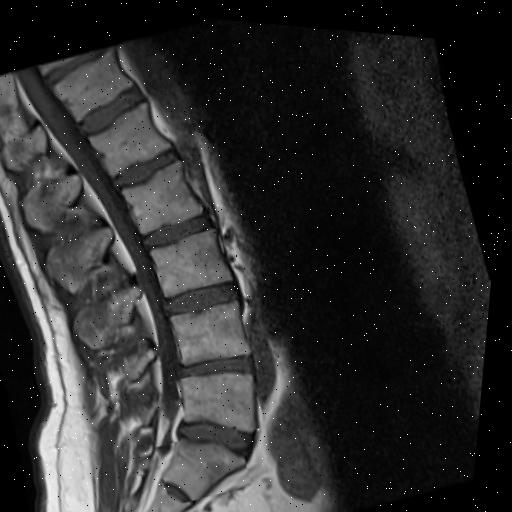L1: (92, 100, 174, 172)
L2: (127, 158, 206, 230)
L3: (157, 225, 236, 293)
L4: (178, 296, 257, 362)
L5: (188, 372, 263, 428)
S1: (171, 435, 253, 497)
